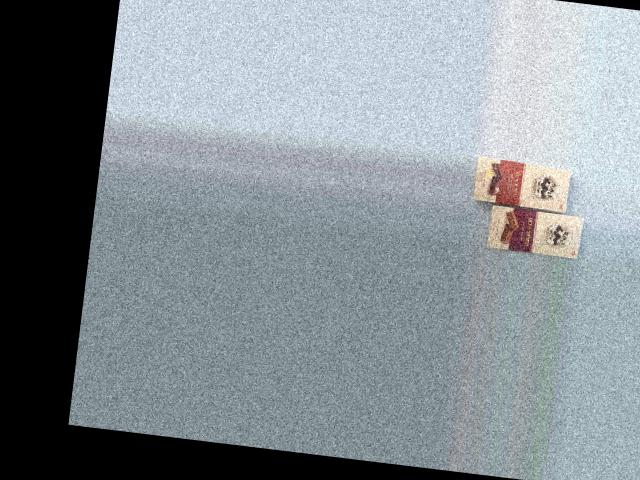chocolate: (469, 154, 576, 222)
